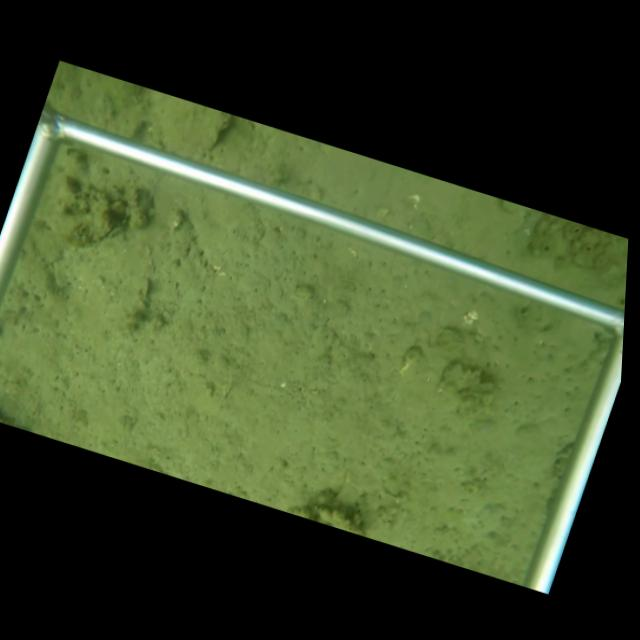Oyster-Open: (86, 219, 124, 246)
